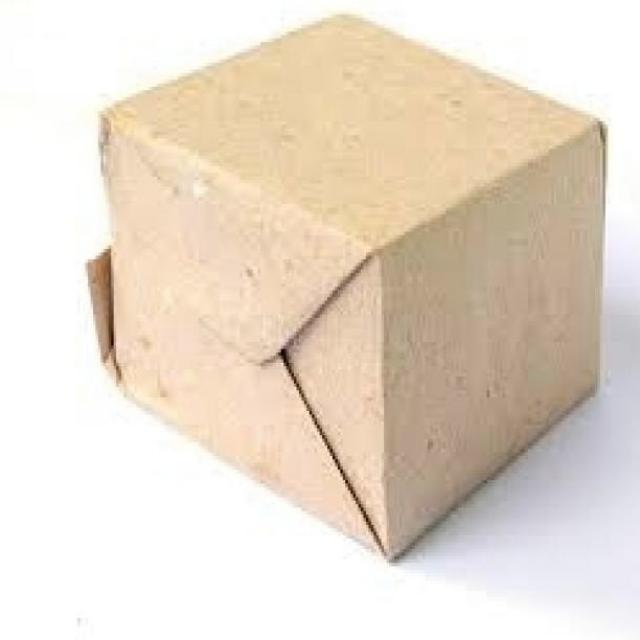cardboard paper: (90, 15, 603, 555)
